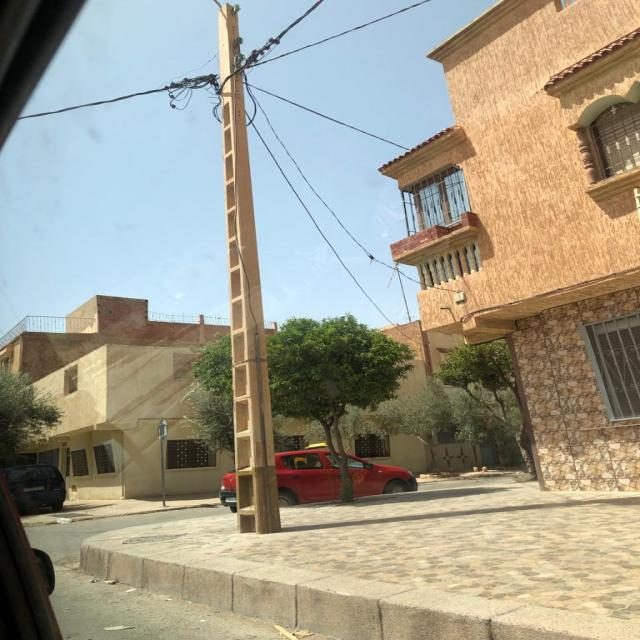Electric pole: (218, 2, 280, 535)
Tree: (268, 315, 412, 502)
